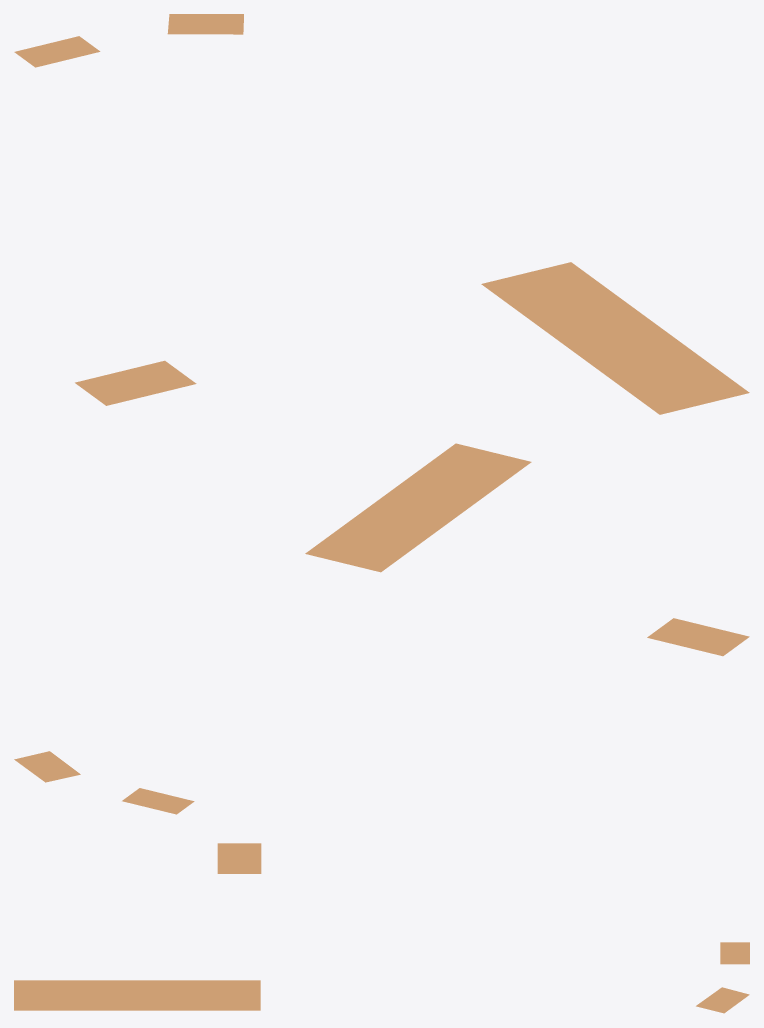
Rendered from sand.fbx.
3 views of the same model, one above another, from view 1: azimuth 30°, elevation 25°; view 2: azimuth 150°, elevation 25°; view 3: azimuth 270°, elevation 25° (orthographic). The views are drawn at different scales.
Visible parts, largest first — view 1: sand; view 2: sand; view 3: sand.
Boxes of the visible parts, x1,y1,x2,y2 form: sand: (14,14,749,414); sand: (14,443,749,814); sand: (14,843,749,1013).
Bounding box in the file's own units: 1448 × 0 × 2648.
